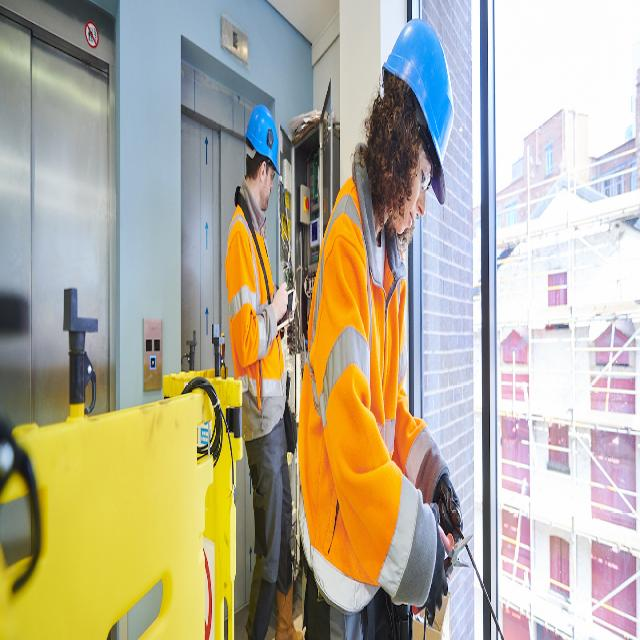helmet: (380, 12, 460, 208), (244, 105, 286, 186)
vest: (304, 225, 414, 618), (225, 219, 285, 444)
